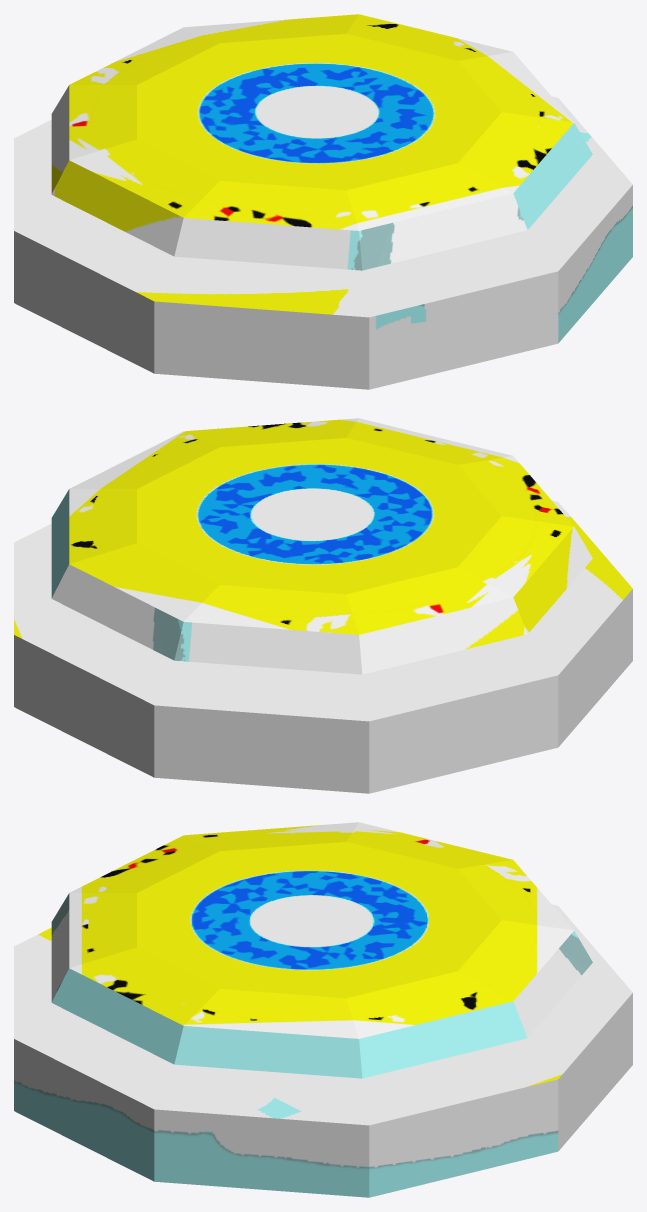
File: pad.fbx
3 renders of one model, top to bottom at view 1: azimuth 30°, elevation 25°; view 2: azimuth 150°, elevation 25°; view 3: azimuth 270°, elevation 25°, orthographic.
Visible parts, largest first — view 1: pad, pad_cell.003, pad_cell.009, pad_cell.007, pad_cell.008, pad_cell.006; view 2: pad, pad_cell.003, pad_cell.009, pad_cell.007, pad_cell.008; view 3: pad, pad_cell.003, pad_cell.007, pad_cell.009, pad_cell.008, pad_cell.010, pad_cell.011.
Boxes of the visible parts, x1,y1,x2,y2 form: pad: (14, 14, 632, 389); pad_cell.003: (14, 17, 600, 388); pad_cell.009: (51, 95, 312, 258); pad_cell.007: (303, 48, 571, 240); pad_cell.008: (287, 165, 536, 269); pad_cell.006: (288, 106, 377, 204); pad: (14, 418, 632, 793); pad_cell.003: (14, 419, 632, 793); pad_cell.009: (345, 479, 573, 658); pad_cell.007: (86, 419, 375, 501); pad_cell.008: (346, 418, 517, 480); pad: (14, 822, 632, 1197); pad_cell.003: (14, 822, 631, 1197); pad_cell.007: (75, 918, 380, 1084); pad_cell.009: (119, 822, 459, 903); pad_cell.008: (52, 868, 161, 997); pad_cell.010: (110, 1015, 234, 1068); pad_cell.011: (344, 1019, 439, 1058).
Bounding box in the file's own units: 197 × 50.09 × 194.
Materials: 1 (1 with a texture image).
